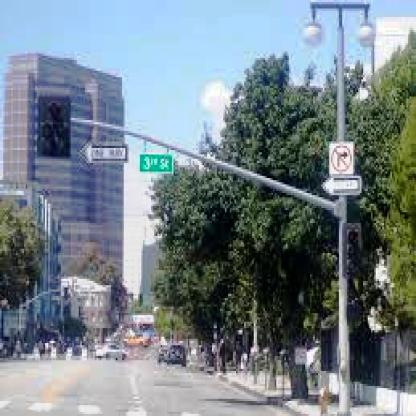No right turn: (328, 141, 356, 176), (310, 142, 330, 154)
